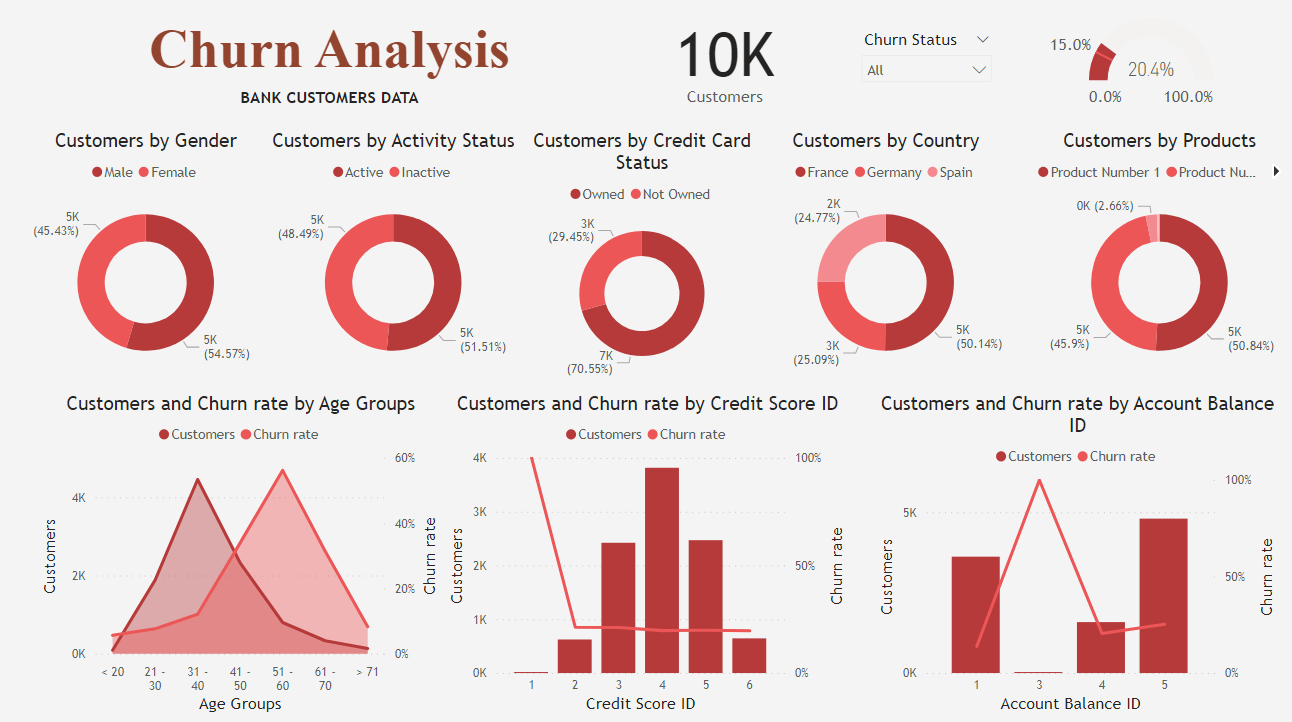

The dashboard page shown, as its layout file describes it:
{"tool":"powerbi","page":{"name":"Page 1","canvas":[1280,720],"ordinal":0},"visuals":[{"type":"card","fields":{"Values":["Customer data.Customers"]},"box":[604.7,4.9,220.8,109.2],"z":0},{"type":"donutChart","fields":{"Category":["Customer data.Gender"],"Y":["Customer data.Customers"]},"box":[22.5,128.6,250,250],"z":1000},{"type":"donutChart","fields":{"Y":["Customer data.Customers"],"Category":["Customer data.Activity Status"]},"box":[265.3,128.6,250,250],"z":2000},{"type":"donutChart","fields":{"Y":["Customer data.Customers"],"Category":["Customer data.Credit Card Status"]},"box":[509.4,128.6,250,250],"z":3000},{"type":"donutChart","fields":{"Y":["Customer data.Customers"],"Category":["Customer data.Country"]},"box":[748.6,128.6,250,250],"z":4000},{"type":"donutChart","fields":{"Y":["Customer data.Customers"],"Category":["Customer data.Products"]},"box":[1017.2,128.6,250,250],"z":5000},{"type":"areaChart","fields":{"Category":["Age groups.Age Groups"],"Y":["Customer data.Customers"],"Y2":["Customer data.Churn rate"]},"box":[39.9,386,399.3,319.5],"z":6000},{"type":"lineClusteredColumnComboChart","fields":{"Y":["Customer data.Customers"],"Y2":["Customer data.Churn rate"],"Category":["Credit Score Groups.Credit Score ID"]},"box":[439.3,386,400.5,319.5],"z":7000},{"type":"lineClusteredColumnComboChart","fields":{"Y":["Customer data.Customers"],"Y2":["Customer data.Churn rate"],"Category":["Account Balance group.Account Balance ID"]},"box":[861.6,386,400.5,319.5],"z":8000},{"type":"slicer","fields":{"Values":["Customer data.Churn Status"]},"box":[839,25.8,148.4,73.6],"z":9000},{"type":"gauge","fields":{"Y":["Customer data.Churn rate"],"MinValue":["Min(Customer data.MIn churn rate)"],"MaxValue":["Max(Customer data.Max Churn rate)"],"TargetValue":["Max(Customer data.Target Churn rate)"]},"box":[1009.5,14.7,206.1,99.4],"z":10000},{"type":"textbox","box":[14.7,14.7,625.6,77.3],"z":11000},{"type":"textbox","box":[177.9,83.5,298.9,31.5],"z":12000}]}

Visuals, with their boxes in screenshot pixels (x1, y1, x2, y2), scaled from the page's 1280x720 canvas onto the 1292x722 screenshot:
card - Customer data.Customers: l=610, t=5, r=833, b=114
donutChart - Customer data.Gender x Customer data.Customers: l=23, t=129, r=275, b=380
donutChart - Customer data.Customers x Customer data.Activity Status: l=268, t=129, r=520, b=380
donutChart - Customer data.Customers x Customer data.Credit Card Status: l=514, t=129, r=767, b=380
donutChart - Customer data.Customers x Customer data.Country: l=756, t=129, r=1008, b=380
donutChart - Customer data.Customers x Customer data.Products: l=1027, t=129, r=1279, b=380
areaChart - Age groups.Age Groups x Customer data.Customers: l=40, t=387, r=443, b=707
lineClusteredColumnComboChart - Customer data.Customers x Customer data.Churn rate: l=443, t=387, r=848, b=707
lineClusteredColumnComboChart - Customer data.Customers x Customer data.Churn rate: l=870, t=387, r=1274, b=707
slicer - Customer data.Churn Status: l=847, t=26, r=997, b=100
gauge - Customer data.Churn rate x Min(Customer data.MIn churn rate): l=1019, t=15, r=1227, b=114
textbox: l=15, t=15, r=646, b=92
textbox: l=180, t=84, r=481, b=115
